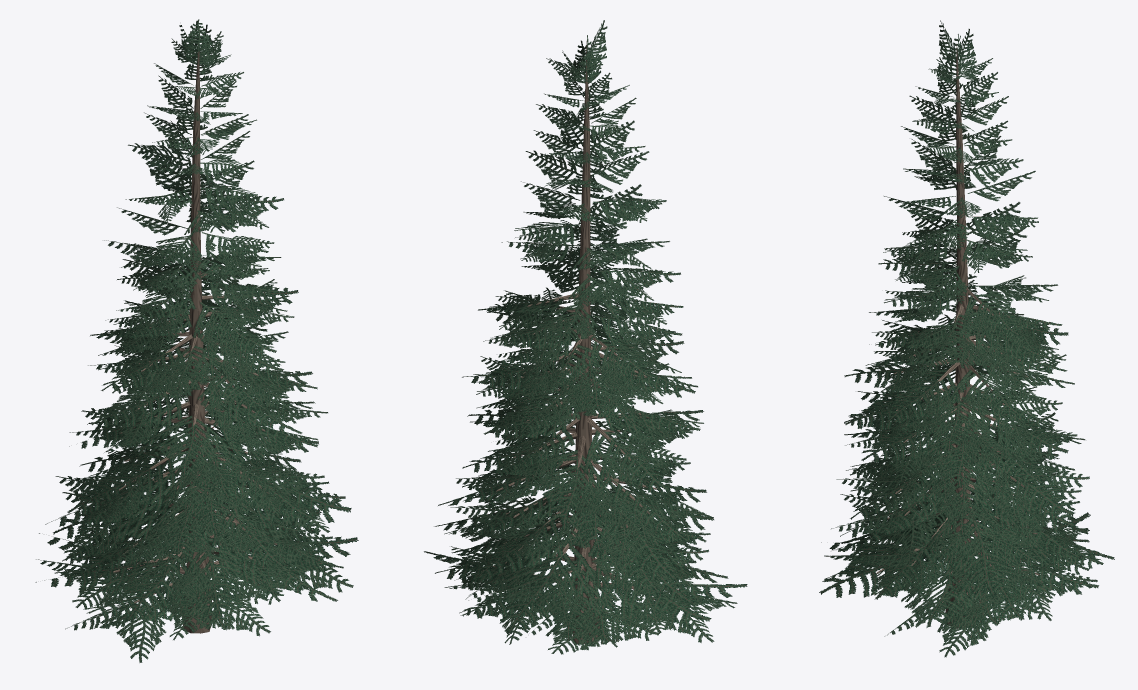
File: environment_fir2_v1.fbx
3 renders of one model, left to right at view 1: azimuth 30°, elevation 25°; view 2: azimuth 150°, elevation 25°; view 3: azimuth 270°, elevation 25°, orthographic. The views are drawn at different scales.
Parts seen in each view (by area): view 1: environment_fir2_v1_lod0; view 2: environment_fir2_v1_lod0; view 3: environment_fir2_v1_lod0.
Part boxes in pixels (<box>): environment_fir2_v1_lod0: <box>35,19,358,662</box>; environment_fir2_v1_lod0: <box>424,20,747,654</box>; environment_fir2_v1_lod0: <box>819,20,1114,657</box>.
Size of what is drawn, in the model's own units: 1036 by 1952 by 983.
